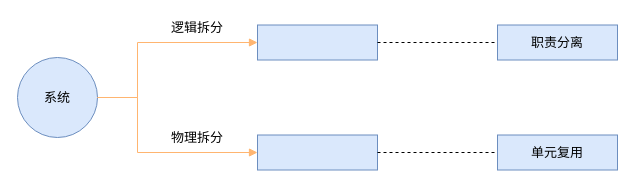
Image size: 635x187. Some labels were removed from this diagram. The shapes that lost their labels are listed below. From the top down, each one's centre as x and y in pixels, then its label:
point (317, 42): 模块
point (317, 152): 组件
